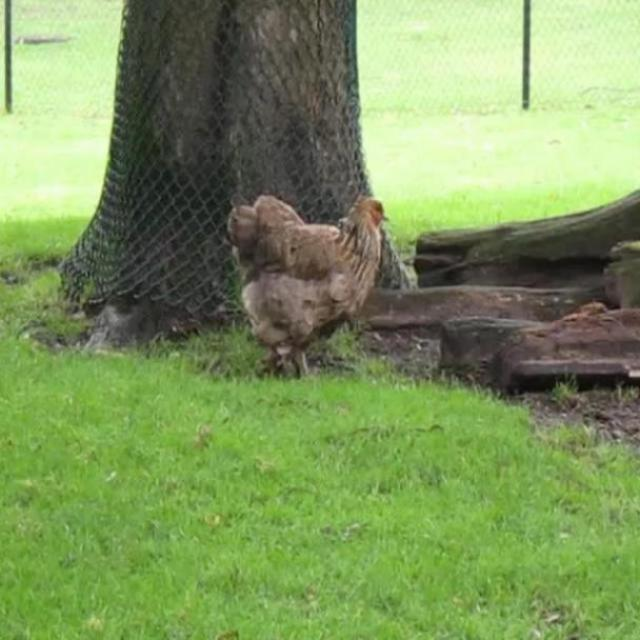Chicken: (225, 180, 390, 372)
